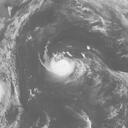cyclone: (44, 54, 85, 81)
